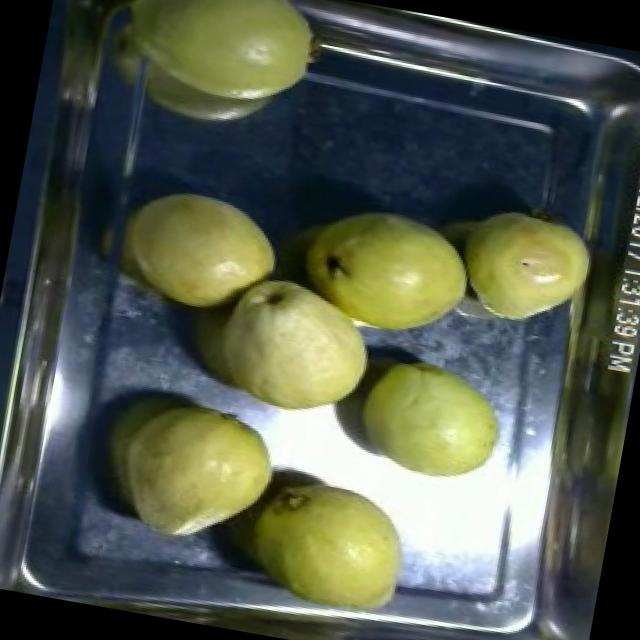Fruit: (83, 371, 298, 571), (169, 251, 394, 442), (216, 456, 434, 632), (79, 0, 334, 141), (284, 188, 486, 357), (334, 338, 520, 504), (104, 174, 295, 334), (441, 193, 605, 346)
